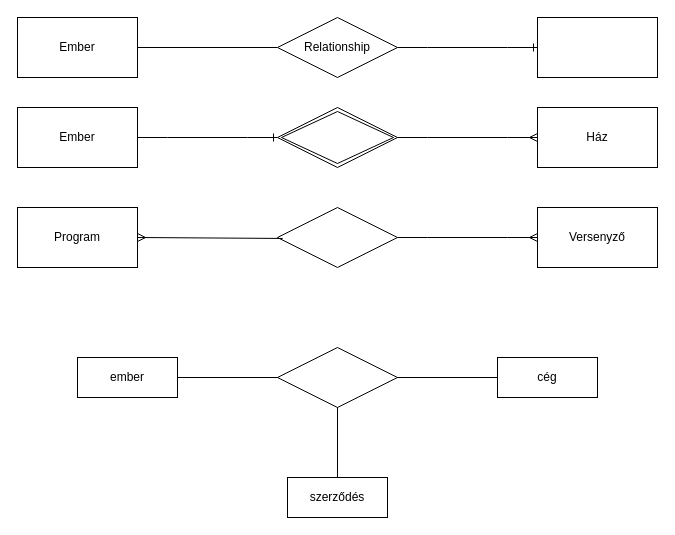
Image size: 675x535. Some labels were removed from this diagram. The centre of each missing label's shape, as x and y in pixels:
aláír: point (337, 377)
birtokol: point (337, 137)
fut: point (337, 237)
Ujjlenyomat: point (597, 47)
